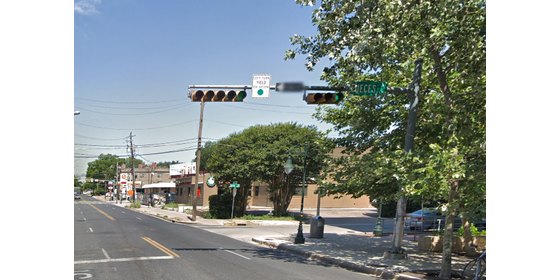left turn yield on green sign: (252, 75, 271, 97)
one way arrow sign: (275, 80, 305, 94)
street name sign: (349, 81, 389, 93)
